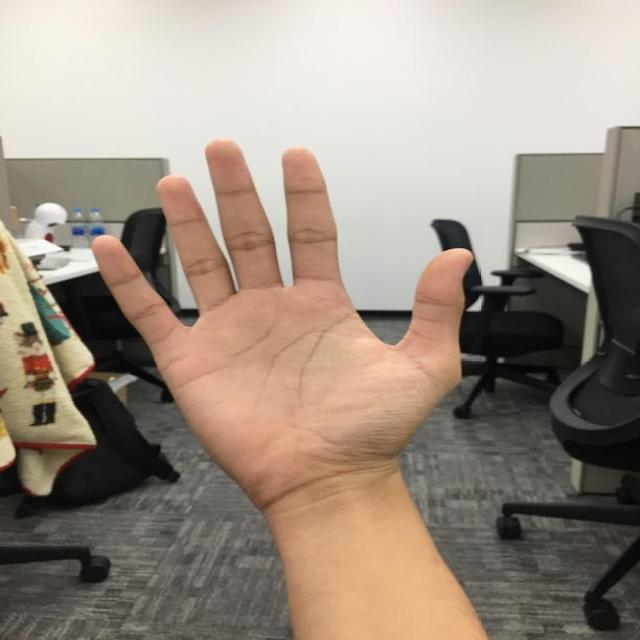hand: (93, 134, 471, 488)
